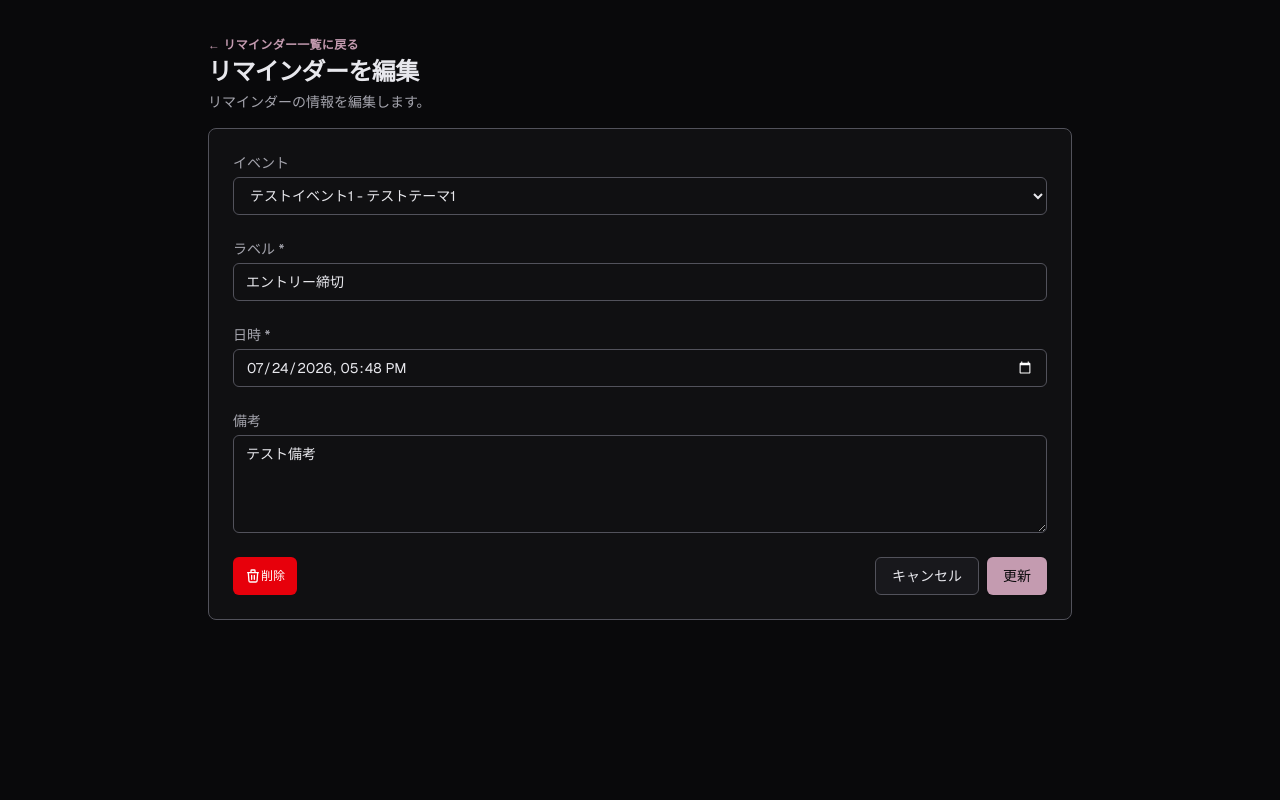
EditReminderPage › 削除ボタンをクリックすると、削除確認モーダルを表示する
Check: the field with placeholder "例: エントリー開始、支払期限、集合時間" below "ラベル *" is shown, box [233,263,1047,301]
Click the button "削除" at (265, 576), box [233,557,297,595]
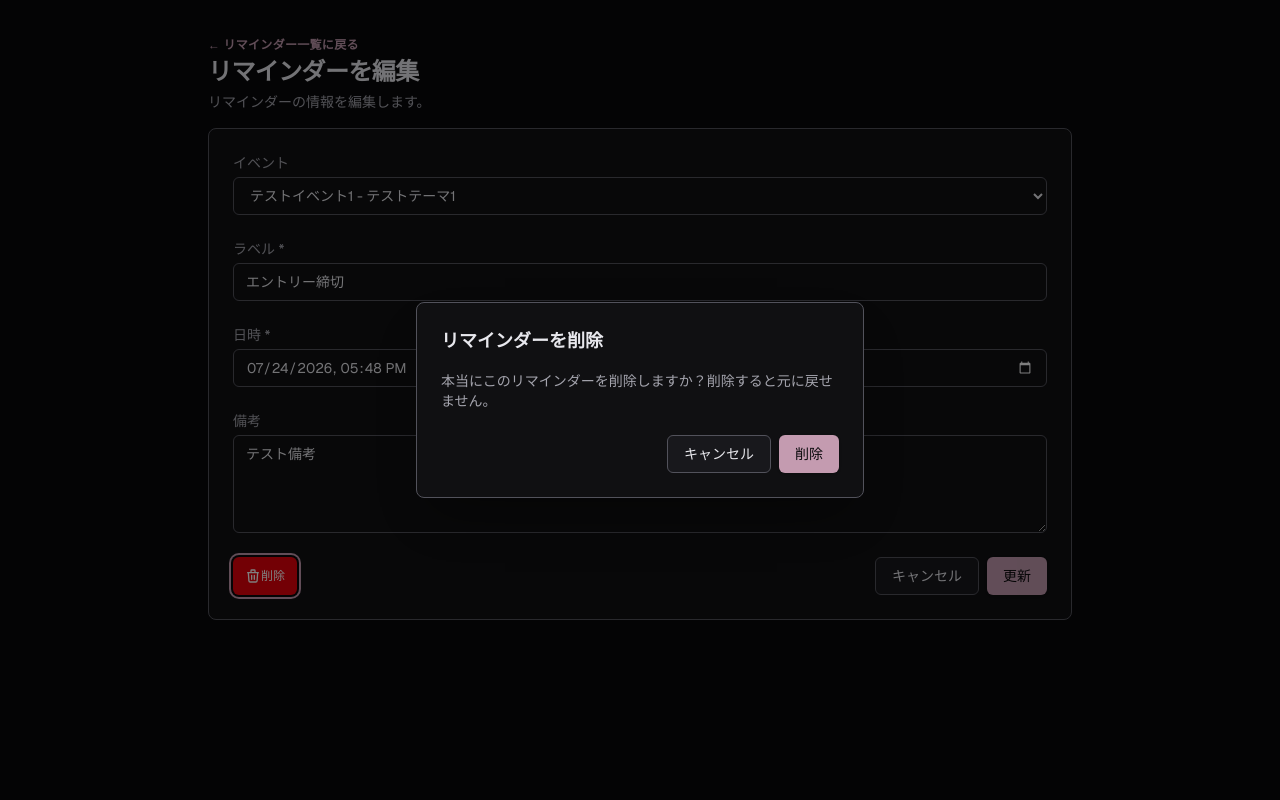
Check: the text "リマインダーを削除" is shown, box [441,329,603,352]
